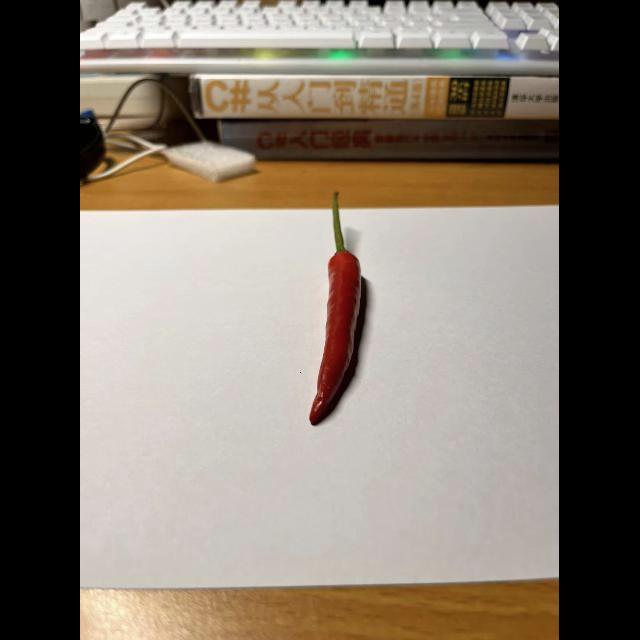chili_pepper: (305, 210, 358, 432)
